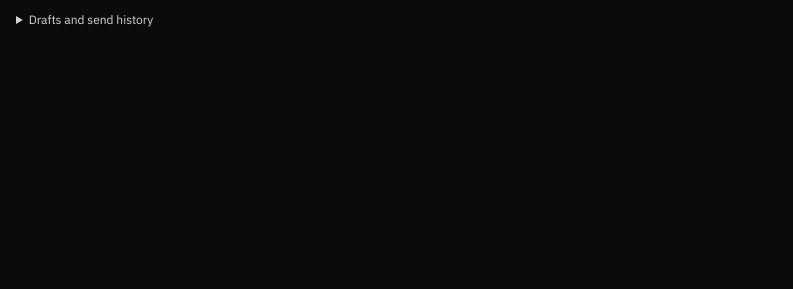
Test: a not_dispatched attachment refusal points at the submission's own recovery, not the draft
This screenshot has width=793, height=289.
Click the heading "Drafts and send history": (85, 20) [16, 12, 153, 27]
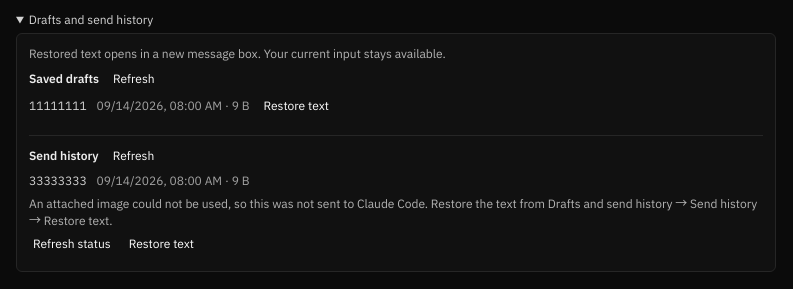
Check: the element labelled "Saved drafts" is shown, box [29, 69, 333, 115]
Check: the text "An attached image could not be used, so this was not sent to Claude Code. Restore the text from Drafts and send history " is shown, box [29, 196, 757, 228]
